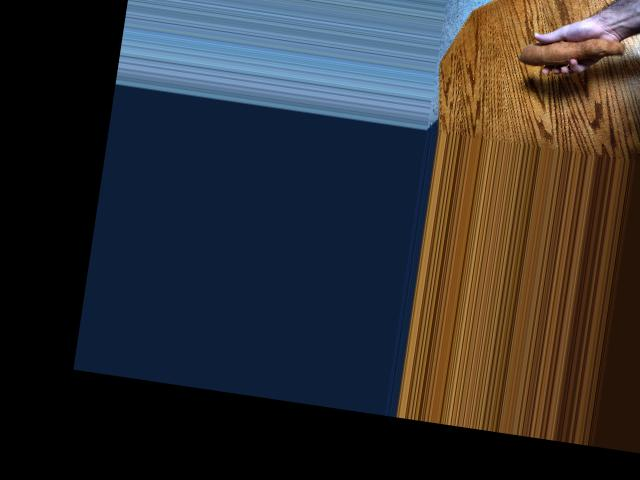sweet_potato: (515, 25, 623, 78)
